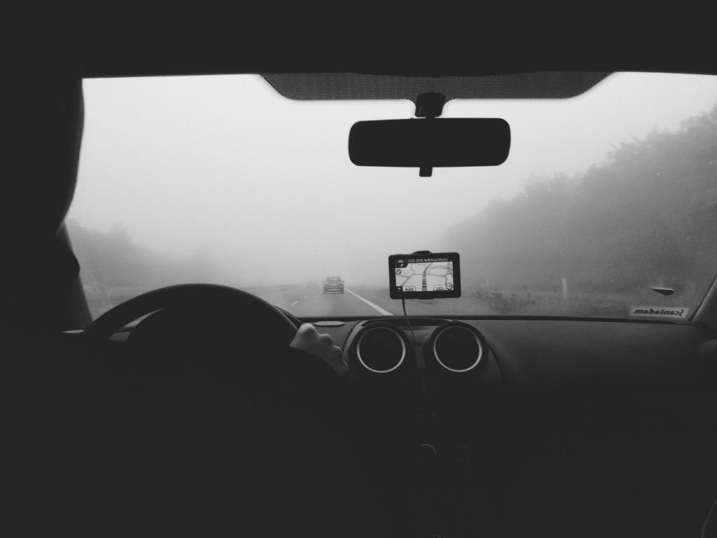car: (322, 275, 346, 295)
